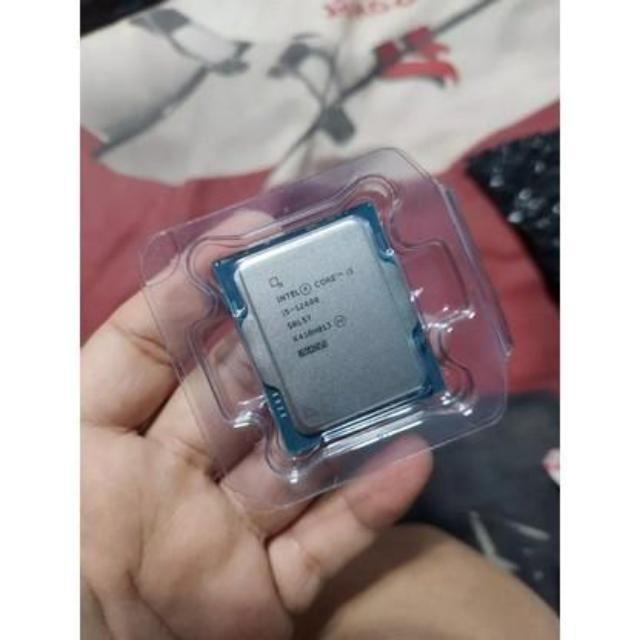CPU: (222, 208, 433, 440)
